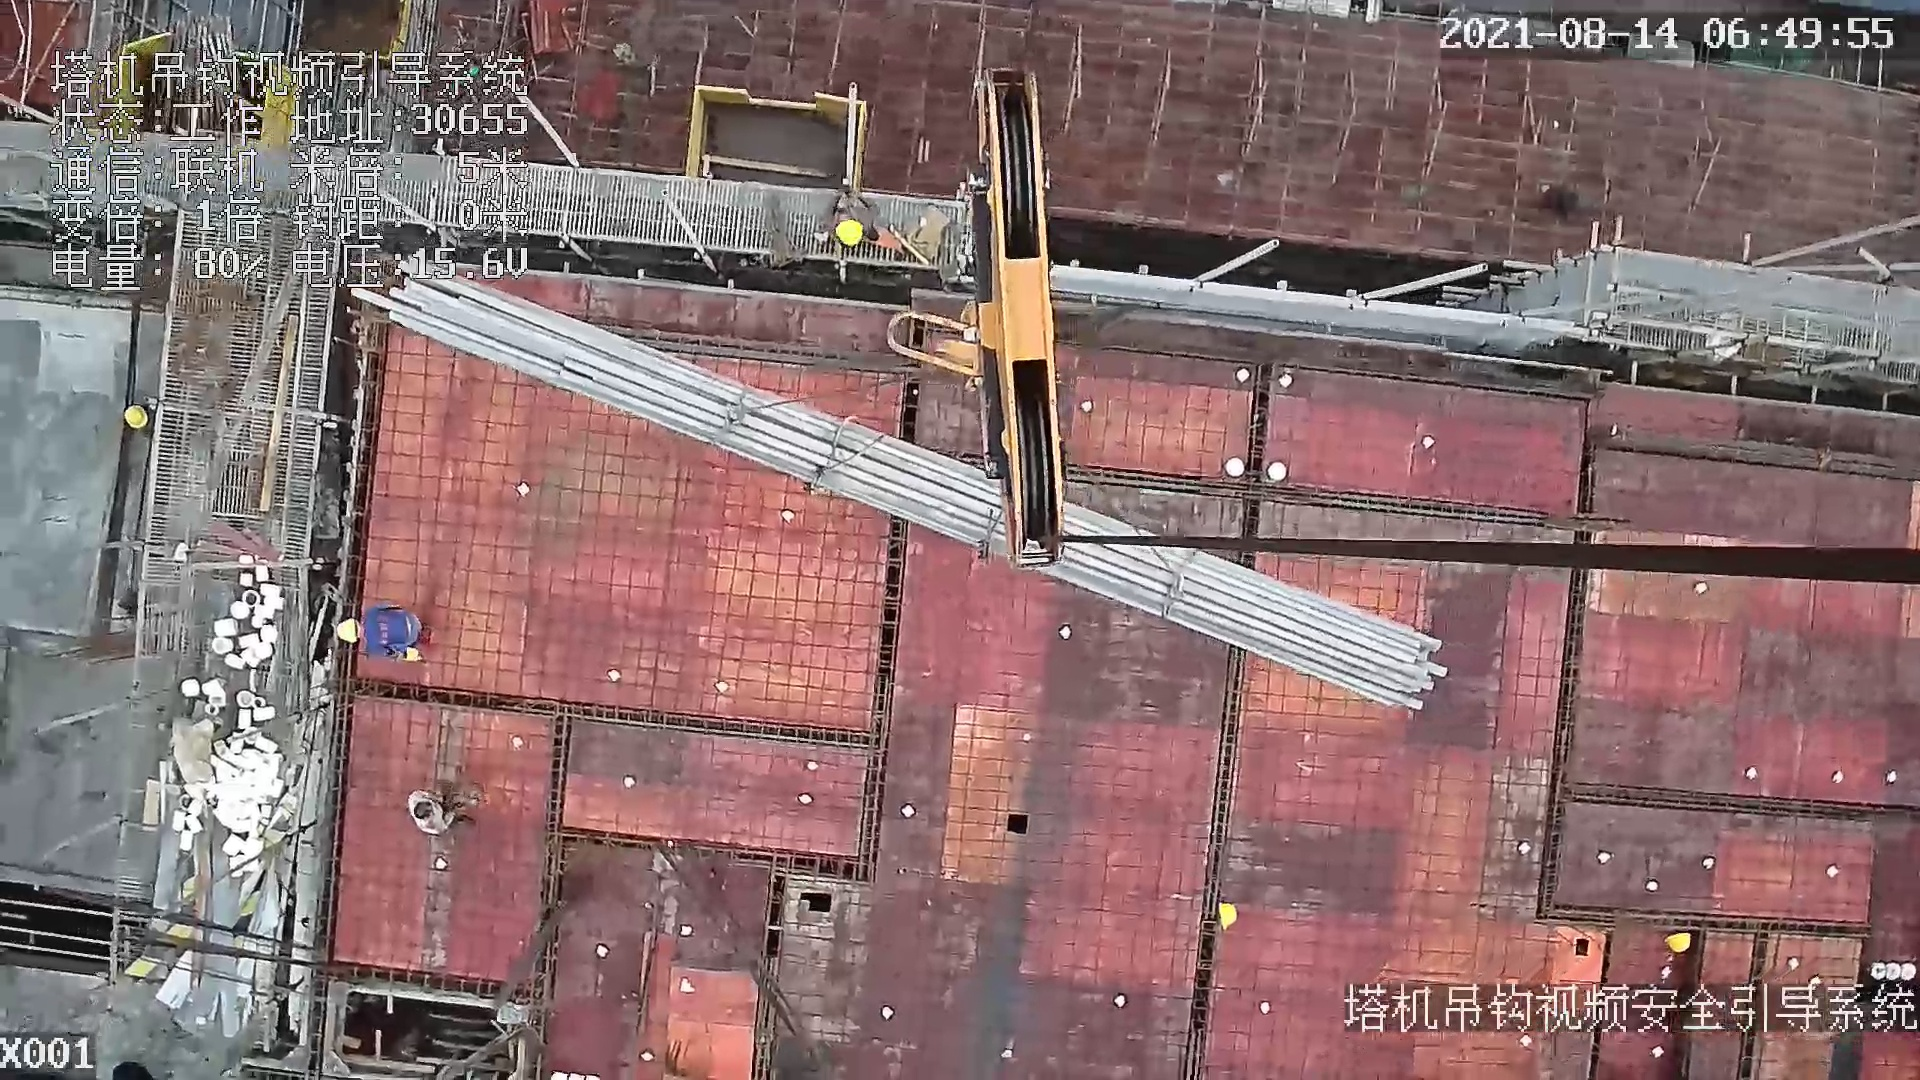helmet: (832, 201, 869, 251), (1659, 925, 1700, 965), (335, 616, 372, 656), (1217, 896, 1248, 939), (126, 403, 148, 426)
hook: (881, 65, 1074, 569)
person: (332, 608, 435, 671), (827, 187, 887, 260), (412, 790, 478, 841)
